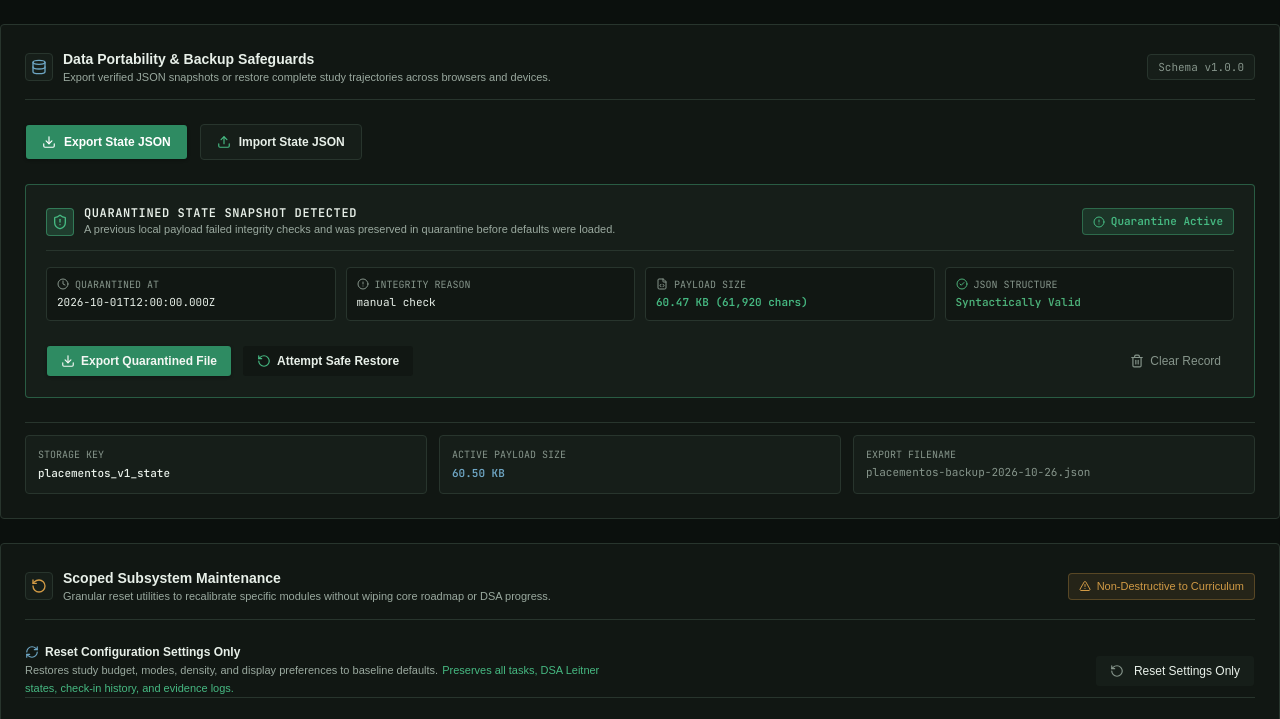
Test: Task 153 — Quarantined Storage Inspection & Safe Recovery › Attempting safe restore with valid backup state restores successfully upon confirmation
(page scrolled)
# Click restore
Click the button with test id "restore-quarantine-btn" at (328, 361), box [242,345,414,377]
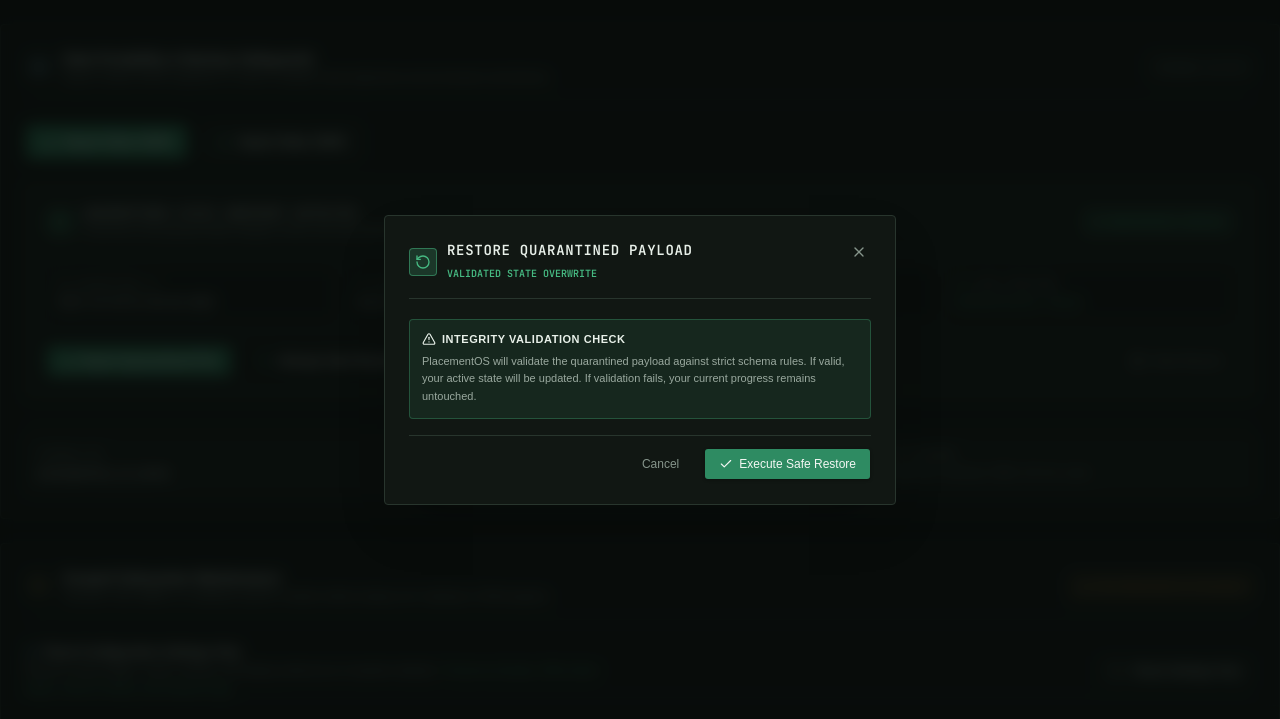
Click the button "Execute Safe Restore" at (788, 464), box [704,448,871,480]
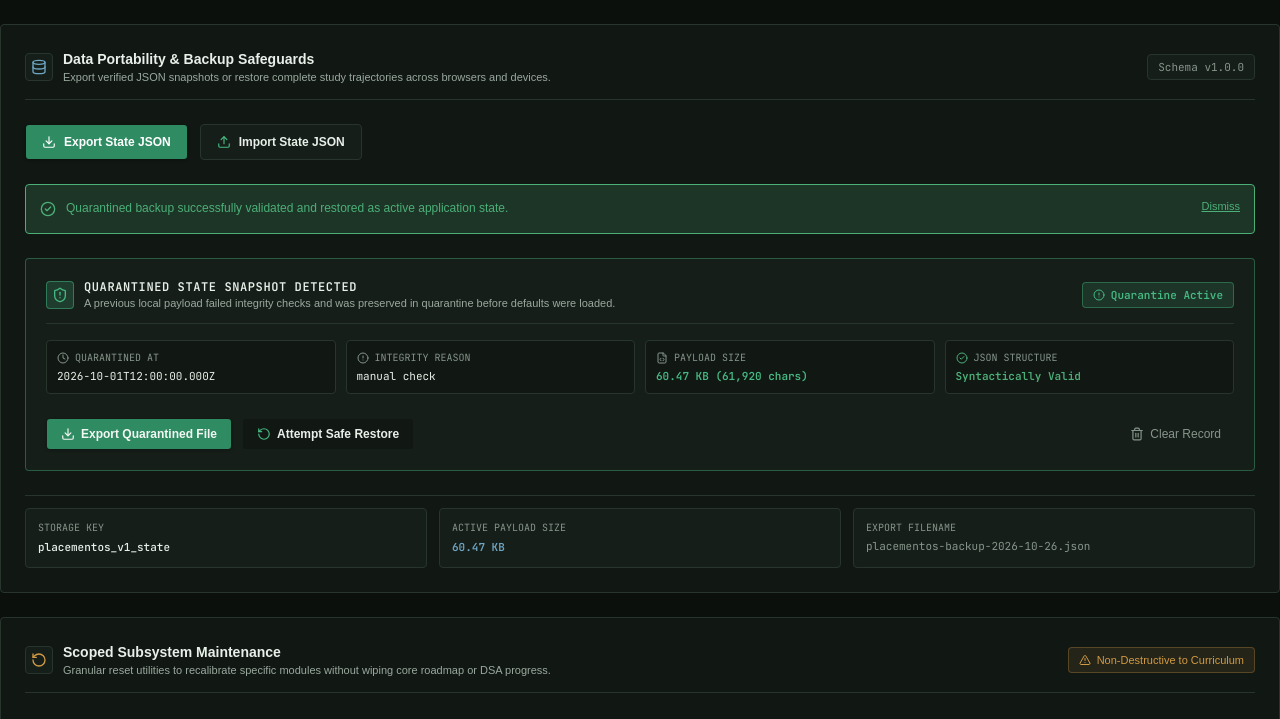
Result: the text "Quarantined backup successfully validated and restored as active application state" is shown at [66,201,508,215]
